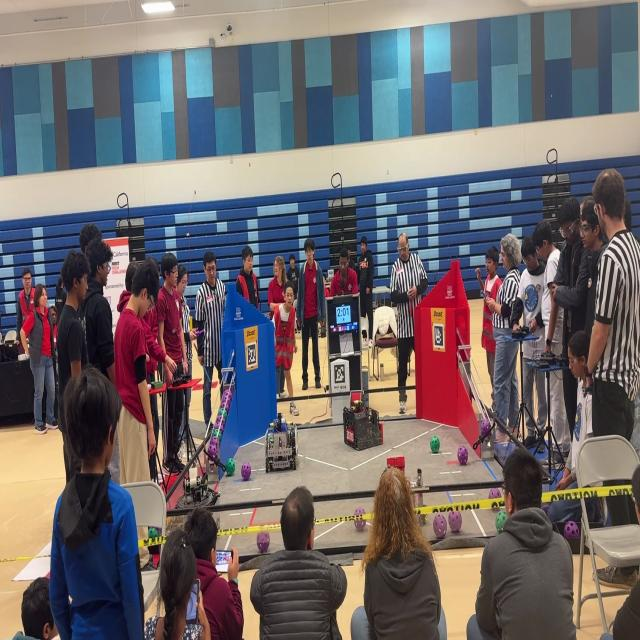artifact_green: (495, 511, 506, 533), (226, 459, 235, 476), (430, 436, 439, 453), (354, 520, 366, 532), (148, 528, 158, 539), (218, 408, 227, 418), (212, 429, 220, 440), (218, 405, 224, 414), (269, 422, 275, 429), (286, 421, 292, 427)
artifact_purple: (433, 514, 447, 539), (448, 511, 462, 533), (256, 531, 270, 553), (564, 521, 580, 538), (241, 462, 252, 481), (208, 438, 218, 458), (480, 419, 491, 437), (458, 446, 468, 465), (489, 488, 502, 500), (354, 520, 366, 532), (215, 415, 224, 431), (489, 488, 501, 499), (223, 395, 231, 410), (222, 389, 230, 403), (542, 504, 549, 516), (225, 400, 230, 413)
